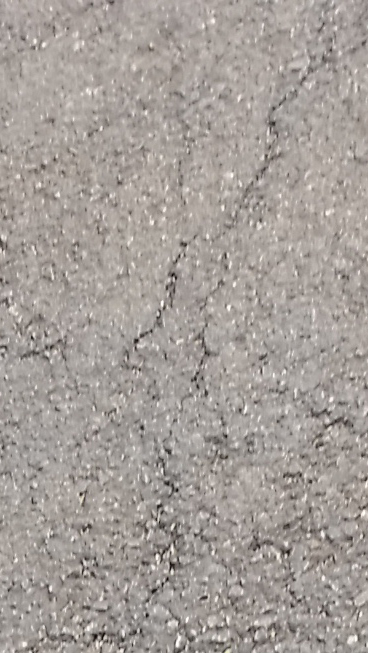A: (108, 24, 357, 635)
